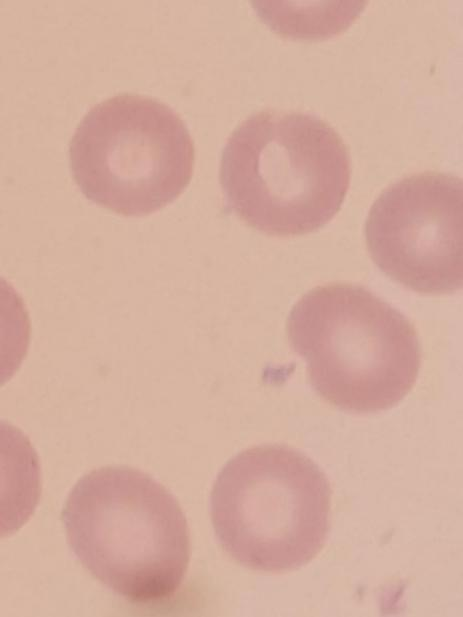Uninfected: (57, 467, 187, 605), (288, 284, 418, 412), (225, 104, 348, 239), (70, 94, 193, 220), (210, 442, 327, 570), (362, 174, 463, 296)
